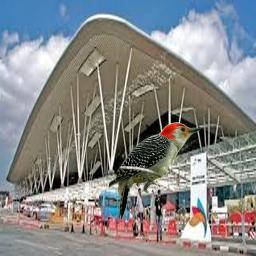Woodpecker: (109, 122, 201, 220)
